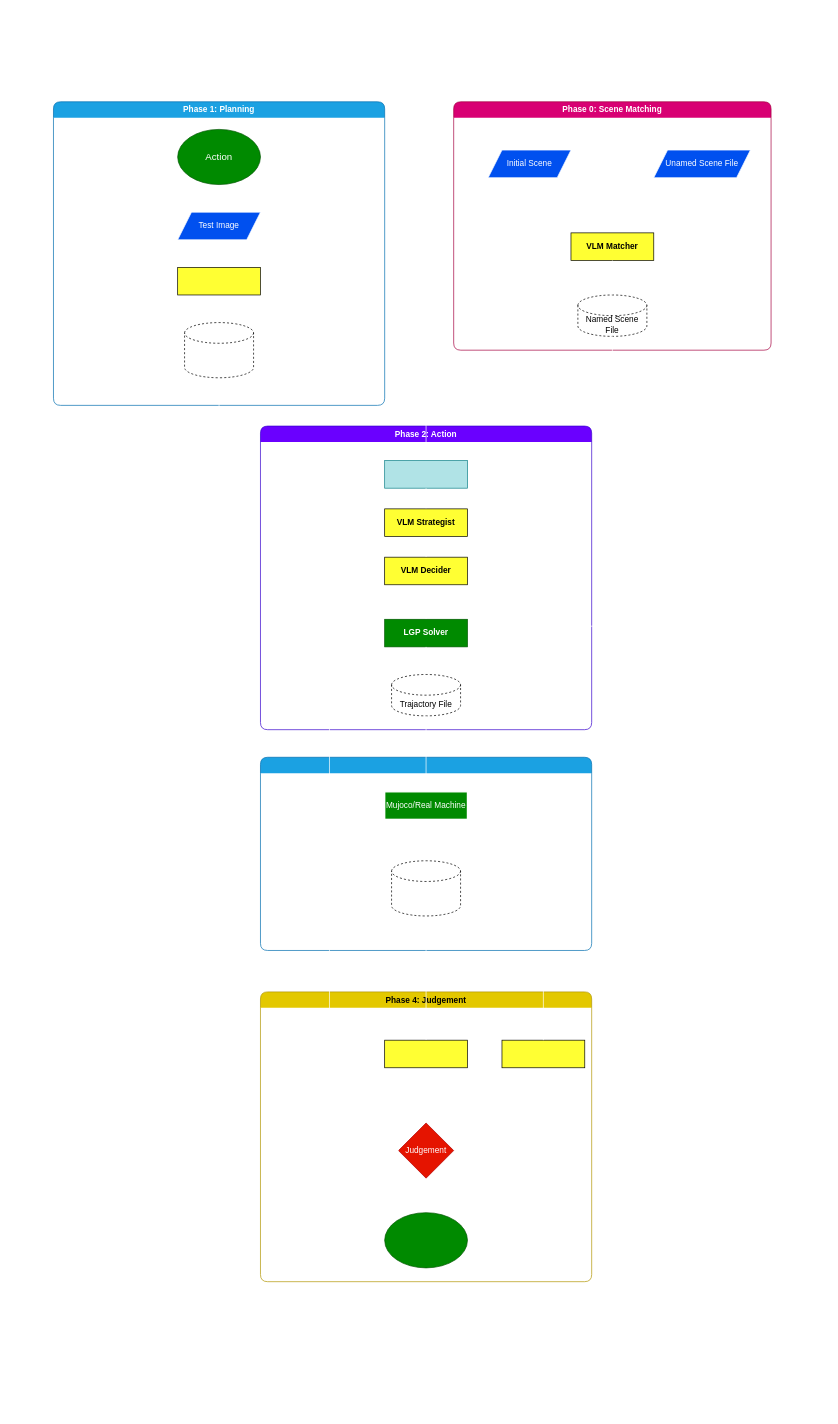
Image size: 838x1424. Some labels were removed from this diagram. The box of each missing label's shape, as (x1, y1, x2, y2) in pixels:
Current Scene Image: (391, 860, 461, 916)
Finished: (384, 1212, 467, 1268)
Graph Representation File: (184, 322, 254, 378)
Phase 3: Simulation/Deployment: (260, 757, 592, 950)
Python Deliver: (384, 460, 467, 488)
VLM Analyst: (177, 267, 260, 295)
VLM Corrector: (501, 1039, 585, 1068)
VLM Judicator: (384, 1039, 467, 1068)
